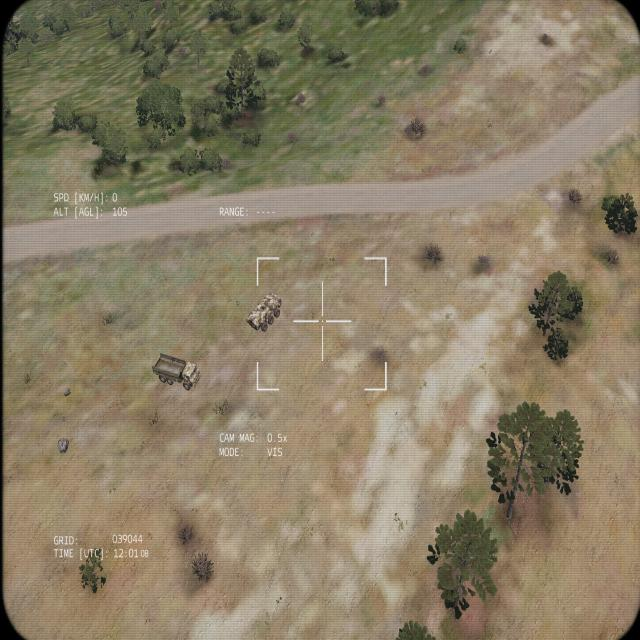apc: (245, 293, 282, 333)
truck: (151, 353, 201, 392)
